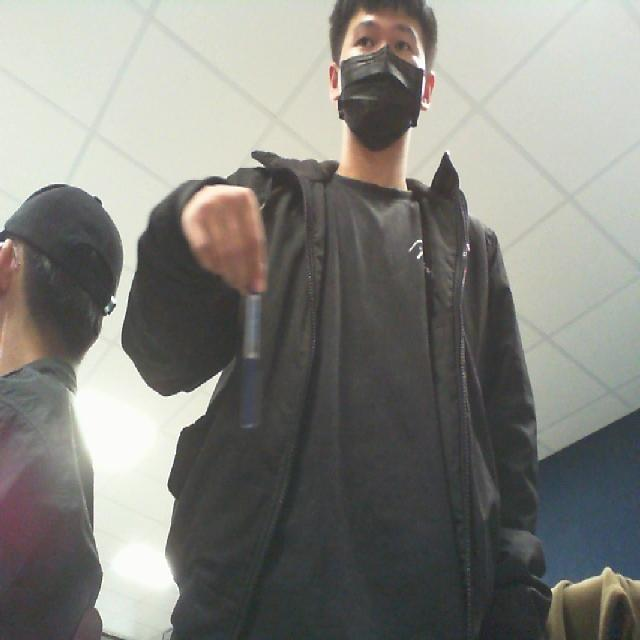Pen: (231, 249, 277, 438)
